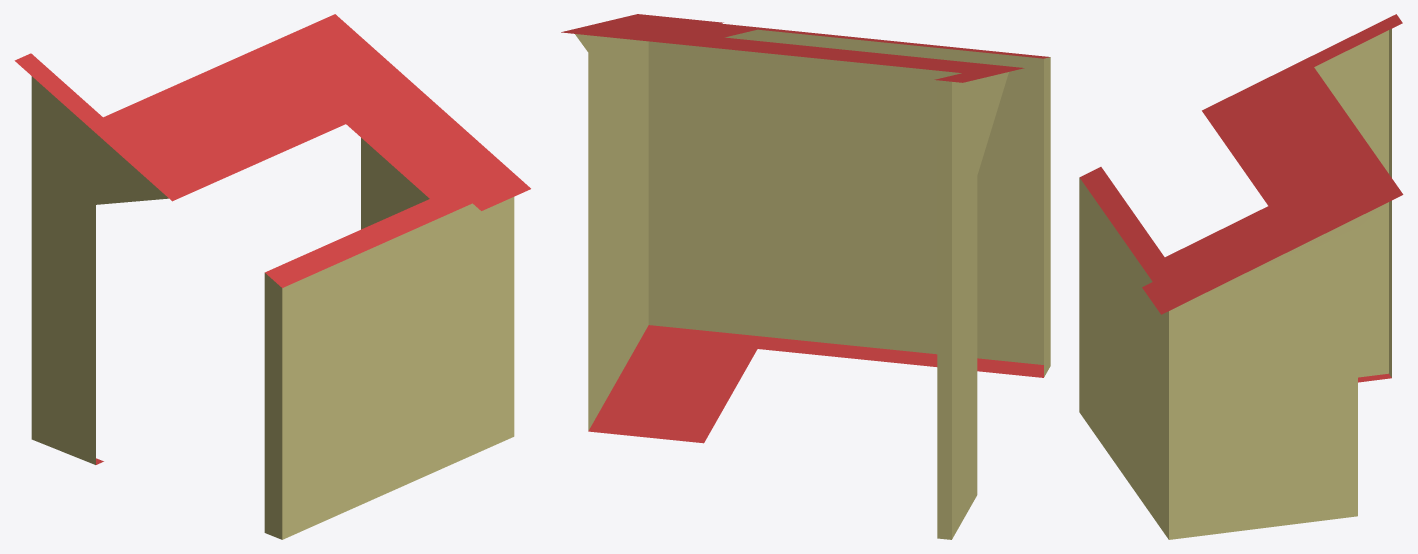
The picture shows the model from 3 angles, left to right: view 1: azimuth 30°, elevation 25°; view 2: azimuth 150°, elevation 25°; view 3: azimuth 270°, elevation 25°; orthographic projection. The views are drawn at different scales.
Size of the model in its own units: 9.3 by 7.15 by 8.61.
